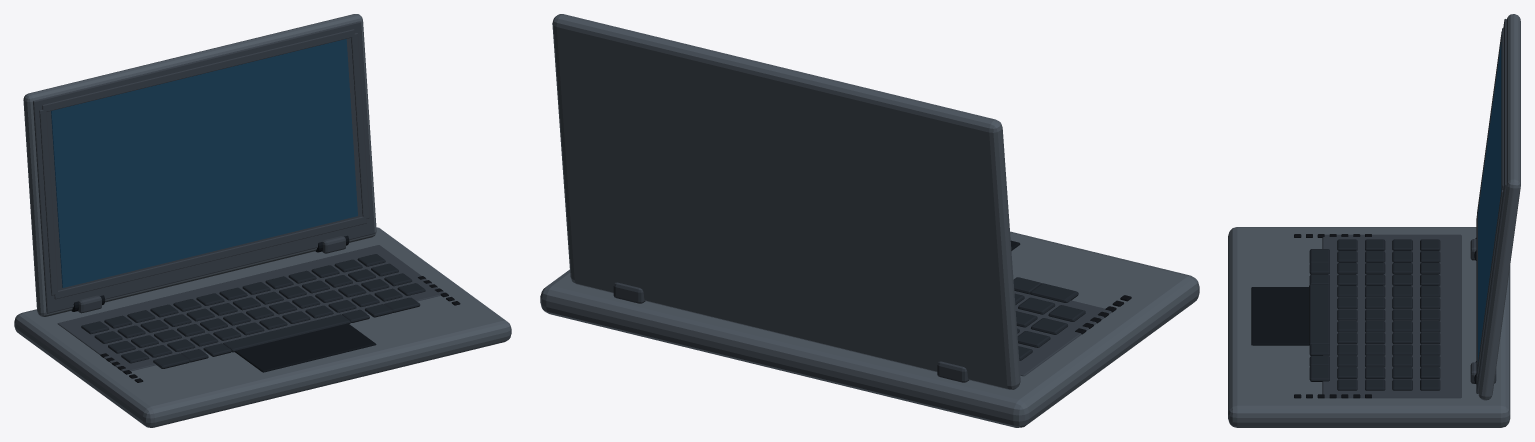
File: laptop.glb
3 renders of one model, left to right at view 1: azimuth 30°, elevation 25°; view 2: azimuth 150°, elevation 25°; view 3: azimuth 270°, elevation 25°, orthographic. The views are drawn at different scales.
Visible parts, largest first — view 1: ScreenDisplay, BaseChassis, KeyboardKeycaps, DisplayBezel, KeyboardDeckInset, ScreenBackShell, Trackpad, BezelTop, BezelBottom, BezelLeft, BezelRight; view 2: ScreenBackShell, BaseChassis, KeyboardKeycaps, KeyboardDeckInset; view 3: BaseChassis, KeyboardKeycaps, KeyboardDeckInset, ScreenBackShell, ScreenDisplay, Trackpad, DisplayBezel, BezelRight, BezelTop, SpeakerSlots, BezelBottom, BezelLeft.
Boxes of the visible parts, bbox=[...] form: ScreenDisplay: bbox=[51, 39, 357, 287]; BaseChassis: bbox=[14, 227, 511, 427]; KeyboardKeycaps: bbox=[81, 254, 425, 368]; DisplayBezel: bbox=[33, 21, 374, 313]; KeyboardDeckInset: bbox=[57, 245, 444, 371]; ScreenBackShell: bbox=[23, 14, 376, 316]; Trackpad: bbox=[235, 323, 376, 372]; BezelTop: bbox=[42, 29, 354, 111]; BezelBottom: bbox=[54, 216, 366, 299]; BezelLeft: bbox=[39, 109, 57, 295]; BezelRight: bbox=[351, 33, 369, 218]; ScreenBackShell: bbox=[552, 14, 1020, 389]; BaseChassis: bbox=[540, 231, 1199, 427]; KeyboardKeycaps: bbox=[1013, 277, 1085, 360]; KeyboardDeckInset: bbox=[1014, 291, 1111, 376]; BaseChassis: bbox=[1228, 227, 1510, 427]; KeyboardKeycaps: bbox=[1309, 239, 1440, 390]; KeyboardDeckInset: bbox=[1322, 234, 1461, 398]; ScreenBackShell: bbox=[1478, 14, 1520, 400]; ScreenDisplay: bbox=[1478, 42, 1501, 361]; Trackpad: bbox=[1251, 287, 1309, 345]; DisplayBezel: bbox=[1476, 19, 1506, 393]; BezelRight: bbox=[1477, 190, 1503, 373]; BezelTop: bbox=[1501, 28, 1503, 189]; SpeakerSlots: bbox=[1294, 234, 1371, 398]; BezelBottom: bbox=[1476, 213, 1477, 376]; BezelLeft: bbox=[1477, 32, 1501, 213].
Bounding box in the file's own units: 13.4 × 8.11 × 8.92.
